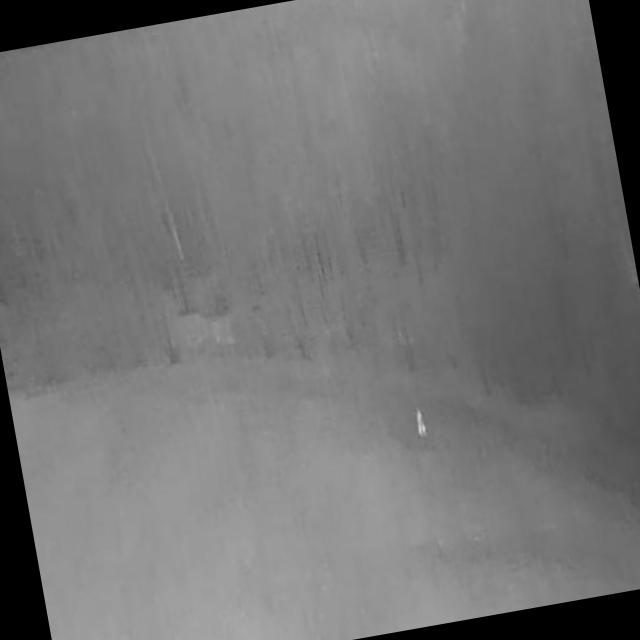person: (414, 409, 428, 439)
